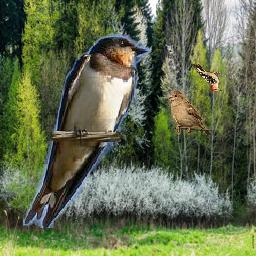Sparrow: (168, 91, 212, 136)
Swallow: (24, 34, 151, 228)
Woodpecker: (191, 63, 223, 91)
